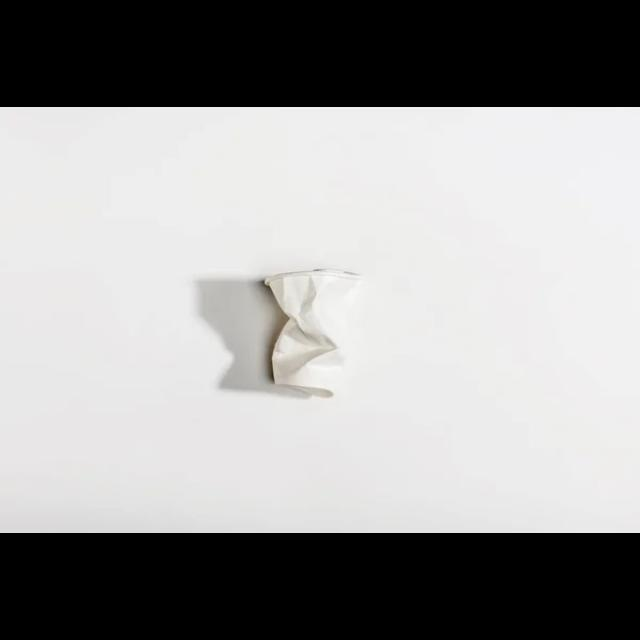trash: (262, 264, 360, 402)
